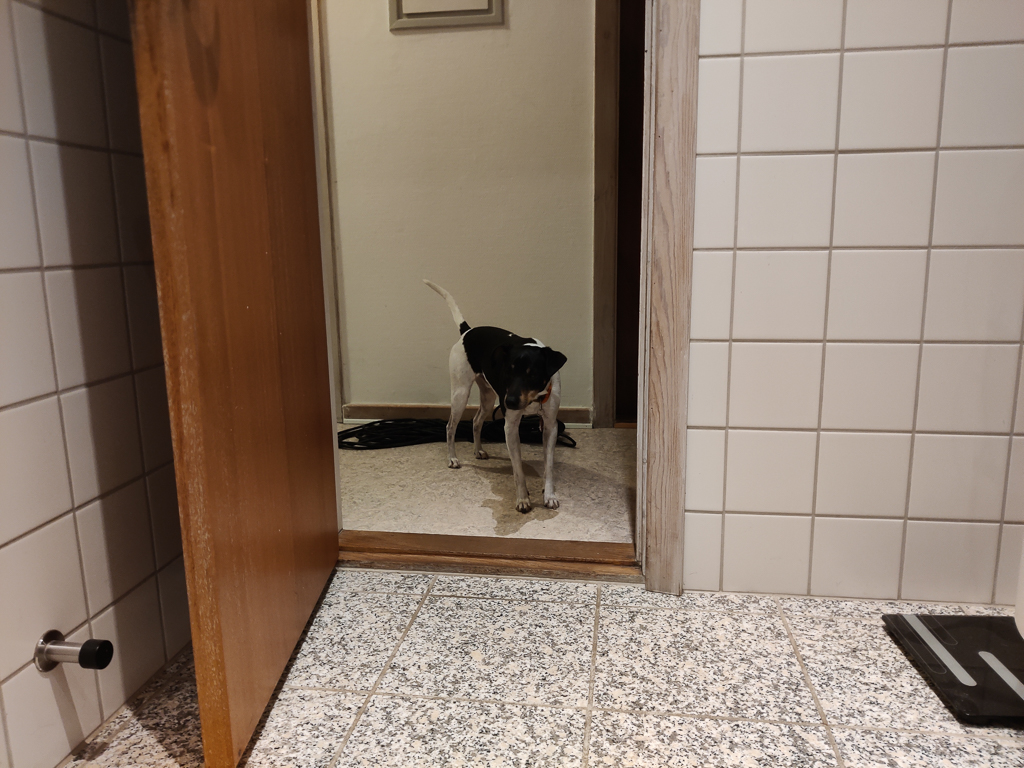Dog: (417, 272, 572, 517)
